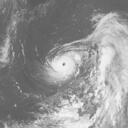cyclone: (45, 54, 79, 85)
